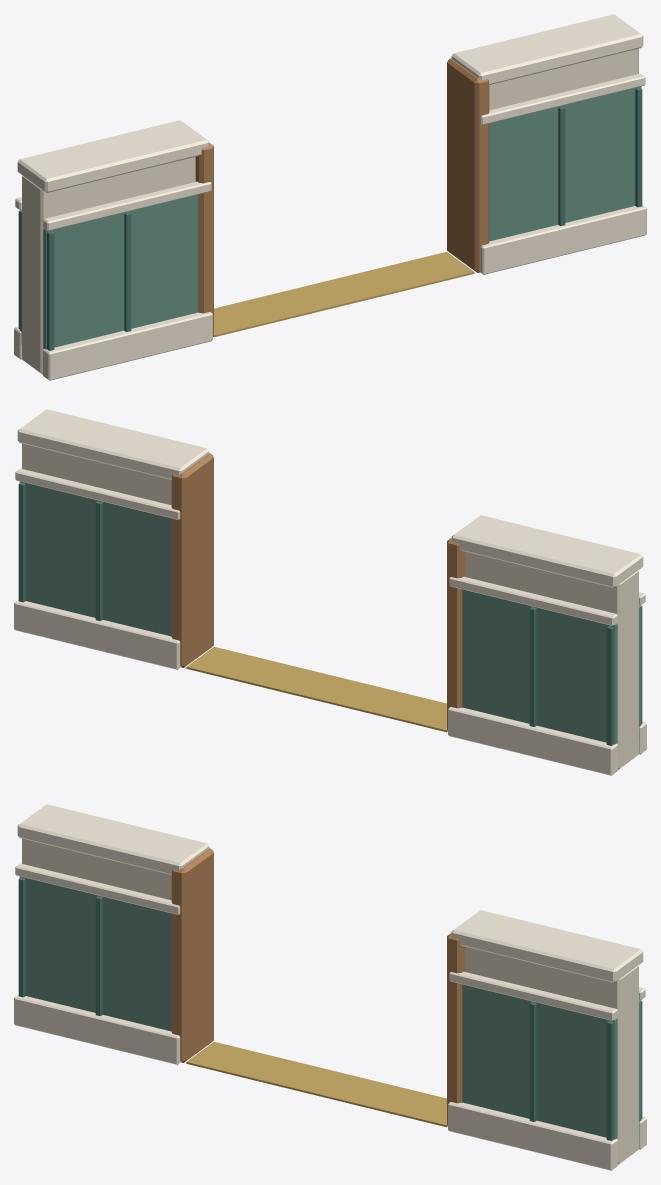
The model's file is bedroom-doorway.glb.
3 views of the same model, one above another, from view 1: azimuth 30°, elevation 25°; view 2: azimuth 150°, elevation 25°; view 3: azimuth 330°, elevation 25° (orthographic).
Parts seen in each view (by area): view 1: bedroom-doorway / Sea glass upholstery.003, bedroom-doorway / Warm linen.004, bedroom-doorway / Cream plaster.001, bedroom-doorway / Oak.004, bedroom-doorway / Brass.003, bedroom-doorway / Sea glass runner.003; view 2: bedroom-doorway / Sea glass upholstery.003, bedroom-doorway / Warm linen.004, bedroom-doorway / Cream plaster.001, bedroom-doorway / Oak.004, bedroom-doorway / Brass.003, bedroom-doorway / Sea glass runner.003; view 3: bedroom-doorway / Sea glass upholstery.003, bedroom-doorway / Warm linen.004, bedroom-doorway / Cream plaster.001, bedroom-doorway / Oak.004, bedroom-doorway / Brass.003, bedroom-doorway / Sea glass runner.003.
Part boxes in pixels (x1,y1,x2,y2): bedroom-doorway / Sea glass upholstery.003: (19,86,641,349); bedroom-doorway / Warm linen.004: (14,14,646,380); bedroom-doorway / Cream plaster.001: (22,48,638,374); bedroom-doorway / Oak.004: (195,58,489,335); bedroom-doorway / Brass.003: (213,251,474,337); bedroom-doorway / Sea glass runner.003: (18,87,642,350); bedroom-doorway / Sea glass upholstery.003: (19,481,641,744); bedroom-doorway / Warm linen.004: (14,409,646,775); bedroom-doorway / Cream plaster.001: (22,443,638,769); bedroom-doorway / Oak.004: (171,453,465,730); bedroom-doorway / Brass.003: (186,646,447,732); bedroom-doorway / Sea glass runner.003: (18,482,642,745); bedroom-doorway / Sea glass upholstery.003: (19,876,641,1139); bedroom-doorway / Warm linen.004: (14,804,646,1170); bedroom-doorway / Cream plaster.001: (22,838,638,1164); bedroom-doorway / Oak.004: (171,848,465,1125); bedroom-doorway / Brass.003: (186,1041,447,1127); bedroom-doorway / Sea glass runner.003: (18,877,642,1140).
Size of the model in its own units: 4 by 1.27 by 0.414.
